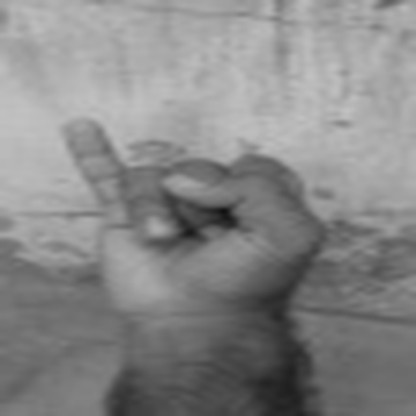i: (44, 103, 341, 331)
